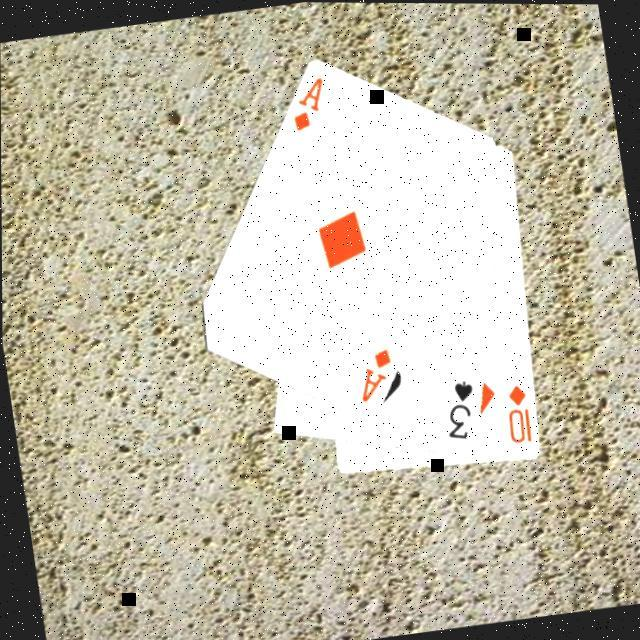10D: (498, 381, 535, 448)
3S: (435, 377, 482, 446)
AD: (349, 346, 398, 407), (284, 75, 333, 136)
